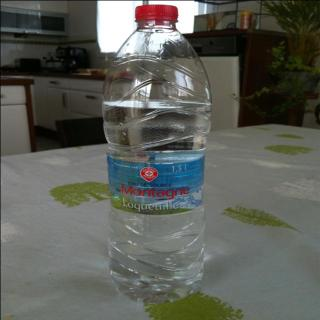Anorganik: (97, 2, 223, 304)
